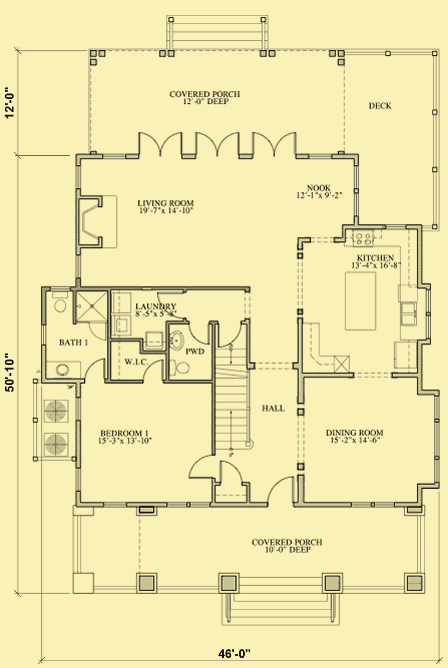coffee table: (77, 290, 108, 324)
door: (192, 126, 244, 164), (249, 127, 301, 165), (185, 449, 226, 490), (134, 130, 187, 161), (153, 285, 192, 324), (263, 469, 299, 509), (214, 315, 248, 351), (181, 318, 215, 349), (80, 350, 106, 388), (139, 358, 167, 391), (86, 318, 111, 345)
kitchen bar: (341, 267, 380, 336)
large sink: (48, 285, 76, 315)
large sofa: (298, 317, 353, 386)
sink: (400, 301, 416, 329)
small sink: (48, 360, 80, 384)
stairs: (223, 575, 344, 630), (212, 351, 257, 458), (164, 15, 273, 52)
windows: (430, 393, 443, 481), (163, 496, 213, 512), (421, 284, 434, 343), (350, 499, 402, 512), (351, 163, 362, 220), (71, 159, 82, 191), (101, 500, 131, 511), (74, 251, 83, 279)
